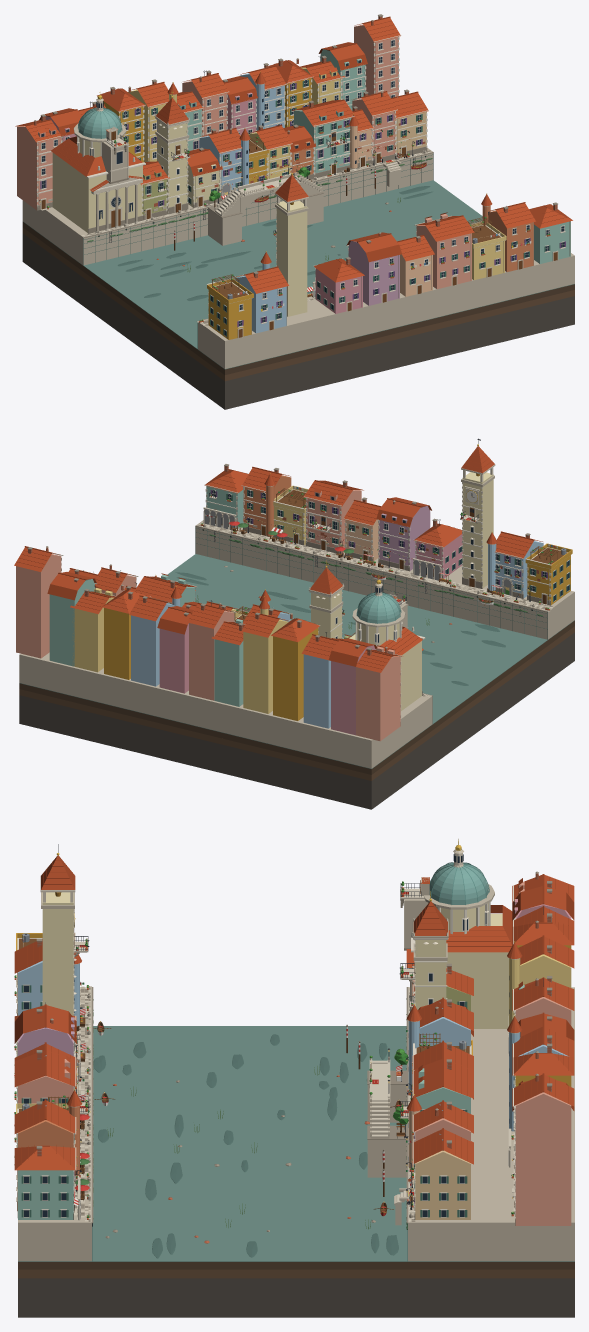
Rendered from Loc_Town.fbx.
The picture shows the model from 3 angles, top to bottom: view 1: azimuth 30°, elevation 25°; view 2: azimuth 150°, elevation 25°; view 3: azimuth 270°, elevation 25°; orthographic projection. The views are drawn at different scales.
Visible parts, largest first — view 1: Stone, Roof, Canal, BlockRock, Cream, Salmon, Trim, StoneLight, RoofDark, Glass, Mint, Earth (+19 smaller); view 2: Stone, BlockRock, Roof, Canal, Salmon, Ochre, Cream, Yellow, Sky, Mint, Rose, RoofDark (+17 smaller); view 3: Canal, Roof, Stone, BlockRock, Salmon, Cream, Earth, StoneLight, Soil, RoofDark, CanalDark, StoneDark (+13 smaller).
Part boxes in pixels (x1=…): Stone: x1=22, y1=98, x2=574, y2=368; Roof: x1=15, y1=17, x2=572, y2=293; Canal: x1=23, y1=180, x2=574, y2=369; BlockRock: x1=22, y1=233, x2=574, y2=409; Cream: x1=52, y1=121, x2=307, y2=316; Salmon: x1=17, y1=24, x2=471, y2=289; Trim: x1=36, y1=35, x2=564, y2=336; StoneLight: x1=40, y1=46, x2=565, y2=337; RoofDark: x1=17, y1=16, x2=567, y2=289; Glass: x1=41, y1=40, x2=564, y2=335; Mint: x1=178, y1=49, x2=570, y2=263; Earth: x1=22, y1=227, x2=574, y2=381; Stone: x1=19, y1=475, x2=574, y2=768; BlockRock: x1=19, y1=632, x2=574, y2=809; Roof: x1=14, y1=446, x2=533, y2=672; Canal: x1=19, y1=554, x2=574, y2=768; Salmon: x1=16, y1=490, x2=400, y2=741; Ochre: x1=104, y1=543, x2=572, y2=720; Cream: x1=311, y1=472, x2=493, y2=710; Yellow: x1=72, y1=485, x2=429, y2=713; Sky: x1=131, y1=527, x2=543, y2=728; Mint: x1=49, y1=486, x2=243, y2=706; Rose: x1=159, y1=534, x2=462, y2=735; RoofDark: x1=16, y1=448, x2=542, y2=669; Canal: x1=18, y1=1026, x2=574, y2=1261; Roof: x1=14, y1=855, x2=574, y2=1170; Stone: x1=18, y1=849, x2=574, y2=1261; BlockRock: x1=18, y1=1278, x2=574, y2=1317; Salmon: x1=18, y1=881, x2=571, y2=1225; Cream: x1=42, y1=892, x2=508, y2=1028; Earth: x1=18, y1=1269, x2=574, y2=1278; StoneLight: x1=16, y1=853, x2=519, y2=1222; Soil: x1=18, y1=1262, x2=574, y2=1269; RoofDark: x1=14, y1=860, x2=574, y2=1164; CanalDark: x1=92, y1=1034, x2=407, y2=1260; StoneDark: x1=17, y1=871, x2=552, y2=1238.
Bounding box in the file's own units: 93.87 × 52.1 × 90.63.
